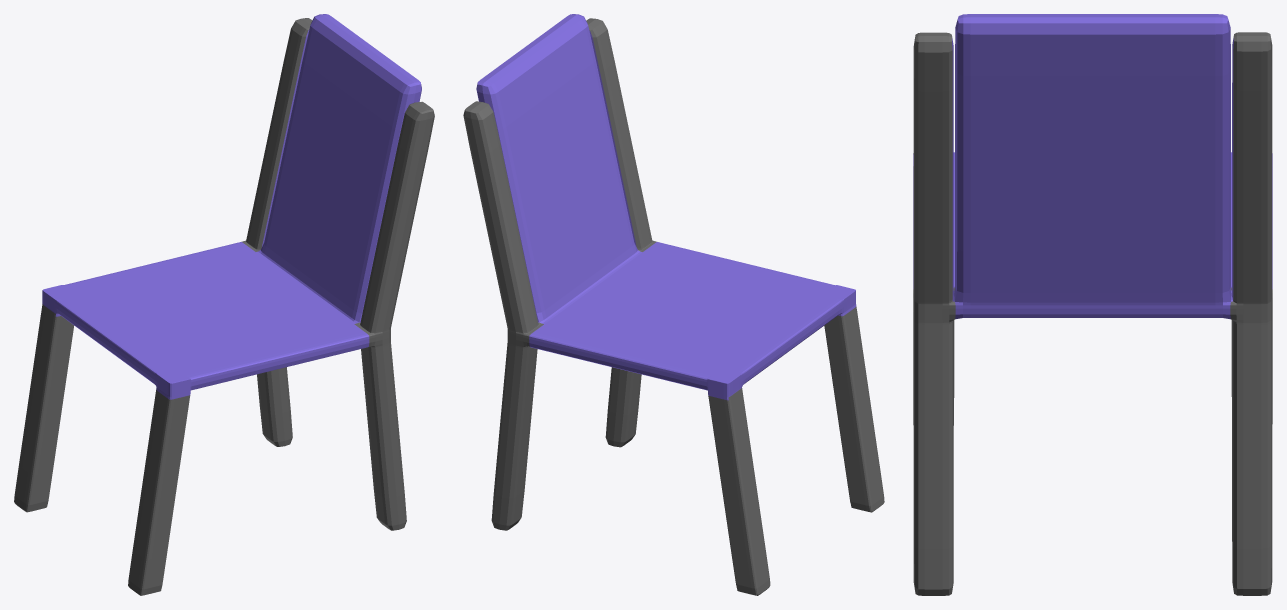
Rendered from chair.fbx.
The picture shows the model from 3 angles, left to right: view 1: azimuth 30°, elevation 25°; view 2: azimuth 150°, elevation 25°; view 3: azimuth 270°, elevation 25°; orthographic projection. The views are drawn at different scales.
Visible parts, largest first — view 1: Plane.003; view 2: Plane.003; view 3: Plane.003.
Part boxes in pixels (x1=…): Plane.003: x1=14, y1=14, x2=434, y2=595; Plane.003: x1=463, y1=14, x2=884, y2=595; Plane.003: x1=913, y1=14, x2=1272, y2=595.
Size of the model in its own units: 156 by 215 by 116.
